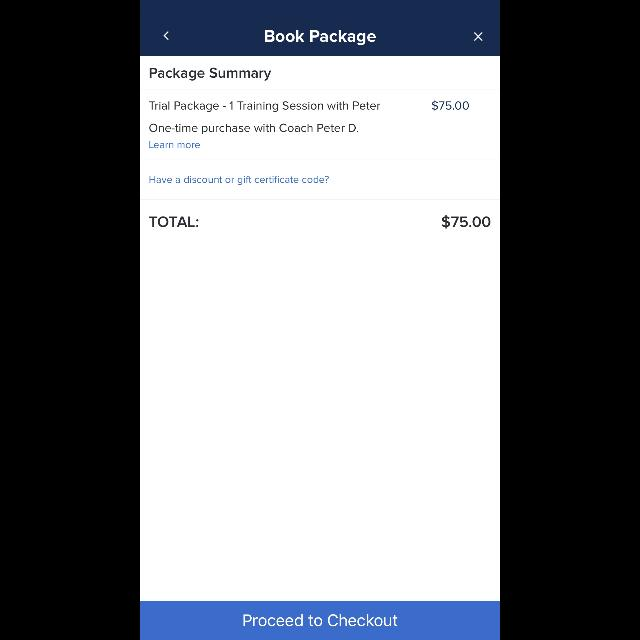icon: (473, 32, 482, 42), (164, 32, 168, 40)
text: (150, 101, 380, 112), (150, 124, 358, 134), (266, 30, 376, 46), (150, 177, 328, 186), (150, 68, 272, 80), (442, 215, 490, 229), (150, 216, 198, 228), (432, 100, 470, 112), (150, 142, 200, 148)
textbutton: (140, 600, 500, 640)
